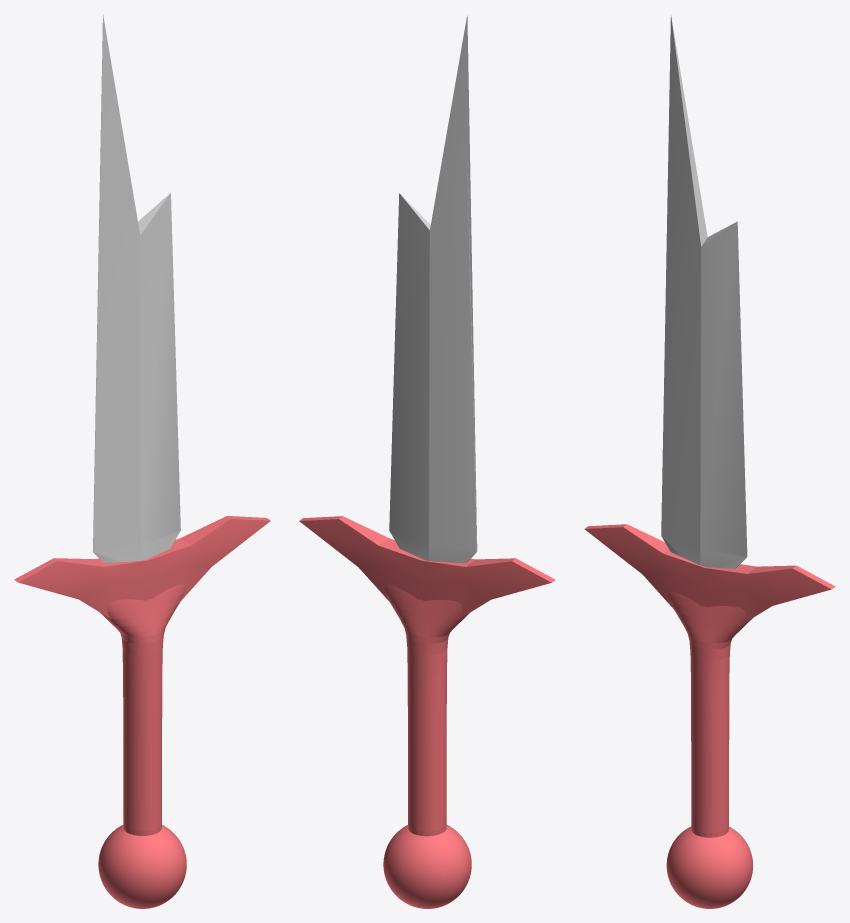
File: sword.fbx
The picture shows the model from 3 angles, left to right: view 1: azimuth 30°, elevation 25°; view 2: azimuth 150°, elevation 25°; view 3: azimuth 330°, elevation 25°; orthographic projection. The views are drawn at different scales.
Parts seen in each view (by area): view 1: I don't think this is a plane, Cylinder, Плоскость.001; view 2: I don't think this is a plane, Cylinder, Плоскость.001; view 3: I don't think this is a plane, Cylinder, Плоскость.001.
Boxes of the visible parts, x1,y1,x2,y2 form: I don't think this is a plane: (92,15,180,563); Cylinder: (98,584,186,908); Плоскость.001: (14,516,270,619); I don't think this is a plane: (389,15,477,563); Cylinder: (383,584,471,908); Плоскость.001: (299,516,555,619); I don't think this is a plane: (661,15,747,568); Cylinder: (666,591,752,908); Плоскость.001: (584,524,835,624).
Bounding box in the file's own units: 178 × 604 × 53.73.
